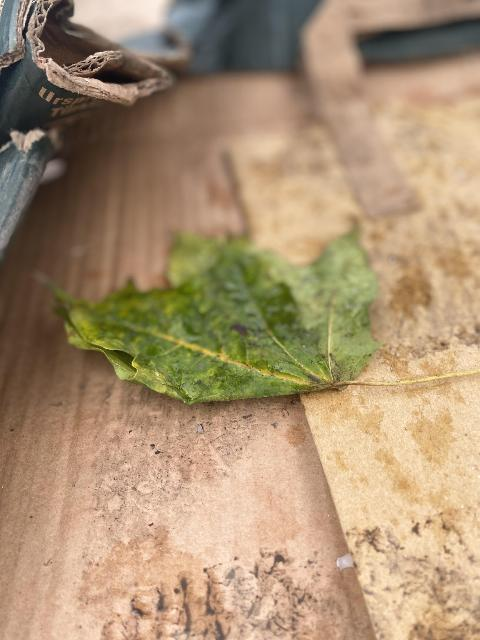Organik: (59, 222, 473, 429)
